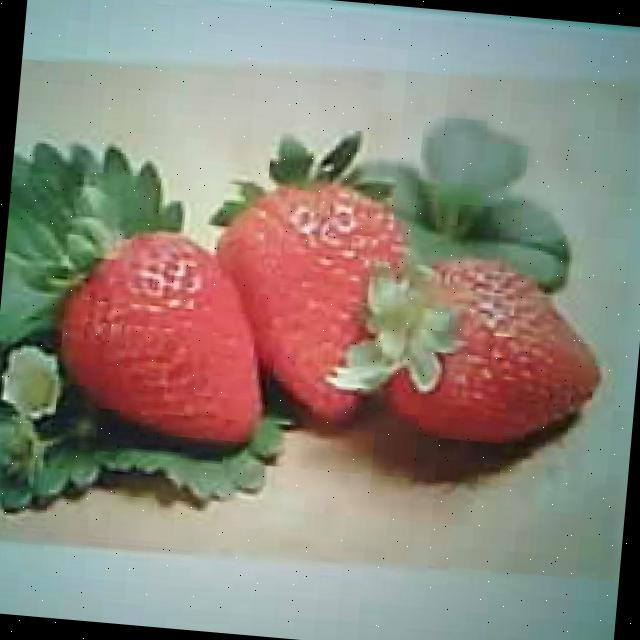strawberry: (208, 177, 412, 431), (55, 227, 274, 448), (392, 252, 611, 446)
